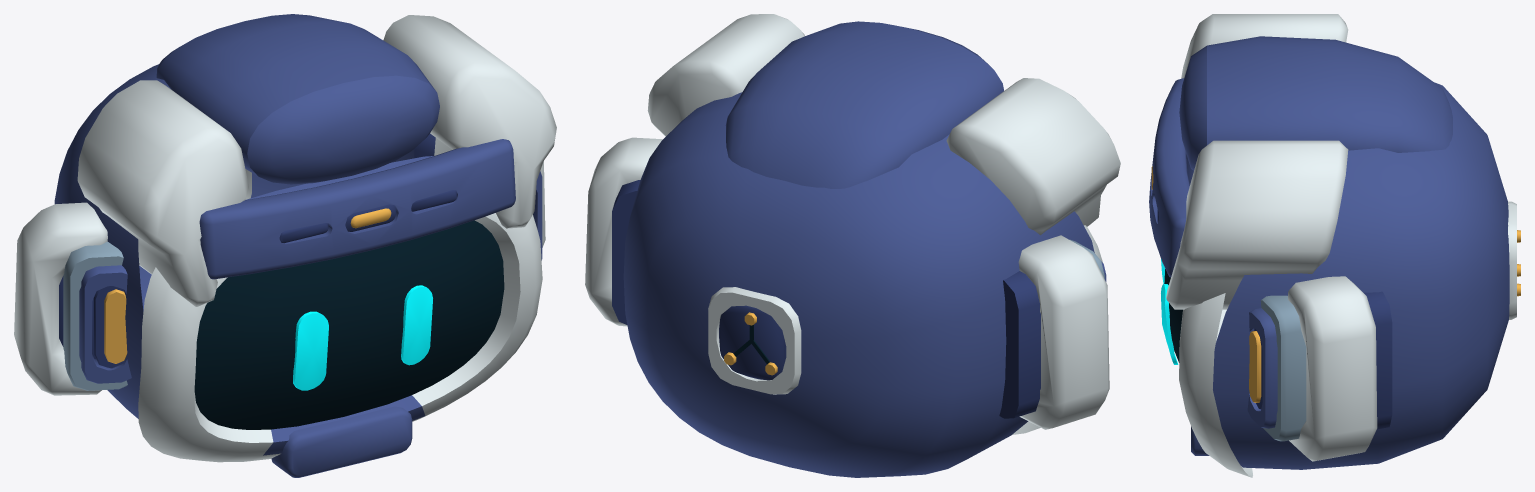
3 renders of one model, left to right at view 1: azimuth 30°, elevation 25°; view 2: azimuth 150°, elevation 25°; view 3: azimuth 270°, elevation 25°, orthographic. The views are drawn at different scales.
Parts seen in each view (by area): view 1: architect_model; view 2: architect_model; view 3: architect_model.
Boxes of the visible parts, box(x1,y1,x2,y2) form: architect_model: box(14, 14, 556, 477); architect_model: box(585, 14, 1120, 477); architect_model: box(1149, 14, 1520, 477).
Bounding box in the file's own units: 3.25 × 2.31 × 2.08.
Materials: 2 (2 with a texture image).
